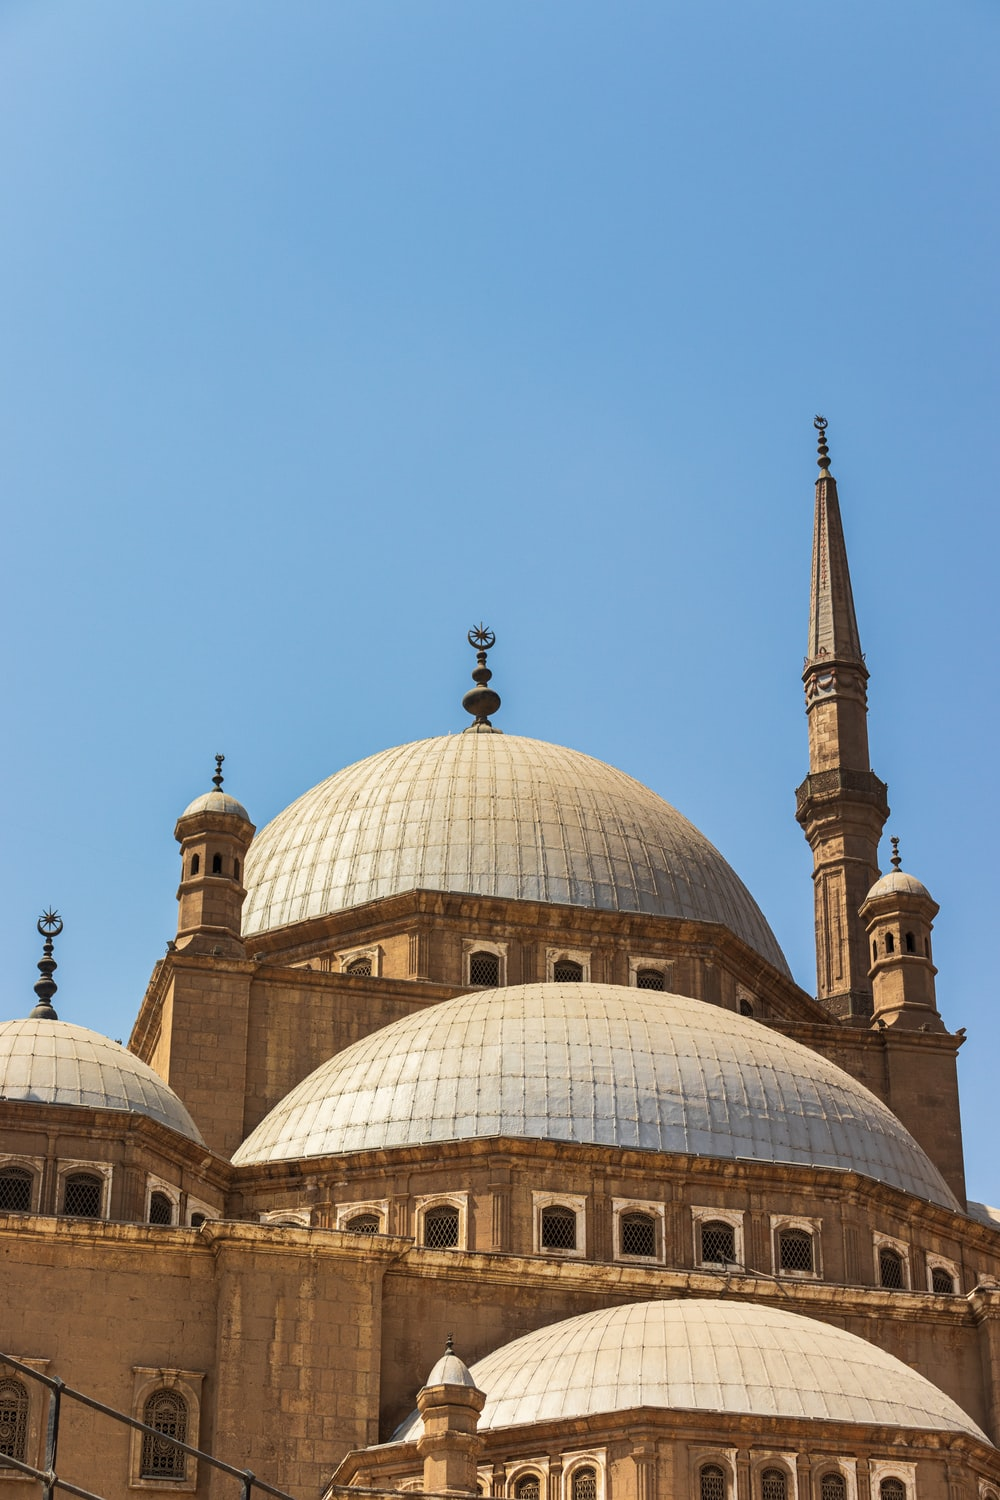Mosque: (27, 497, 996, 1467)
